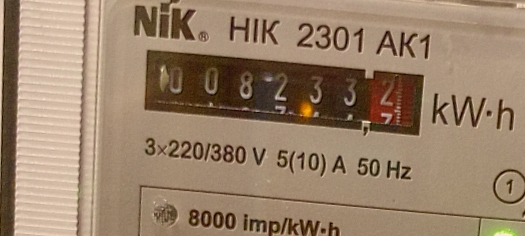0: (164, 62, 187, 96), (200, 64, 221, 97)
2: (269, 70, 292, 104), (377, 76, 397, 109)
3: (305, 73, 325, 106), (341, 75, 360, 108)
8: (235, 68, 255, 101)
screen: (130, 37, 437, 146)
